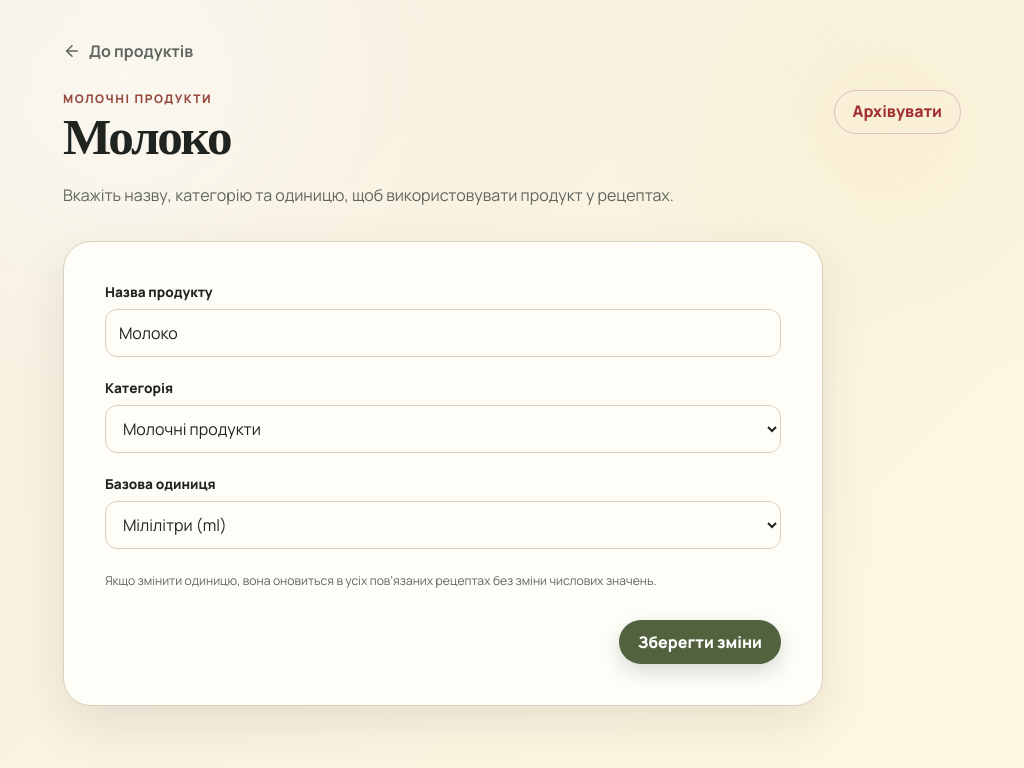
Test case: ProductEditorPage › shows archive impact and restores focus after Escape
The width and height of the screenshot is (1024, 768).
Click the button "Архівувати" at (897, 112), box x1=834 y1=90 x2=961 y2=134
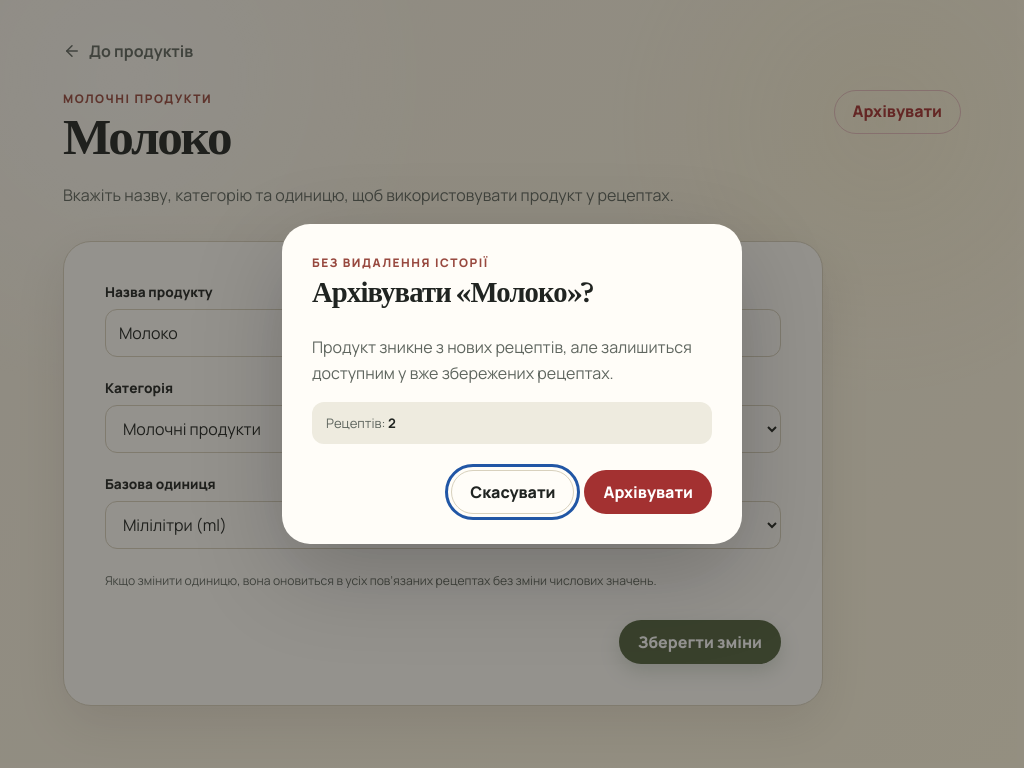
Expected: the dialog shows "Рецептів: 2", x1=282 y1=224 x2=742 y2=544
Press Escape
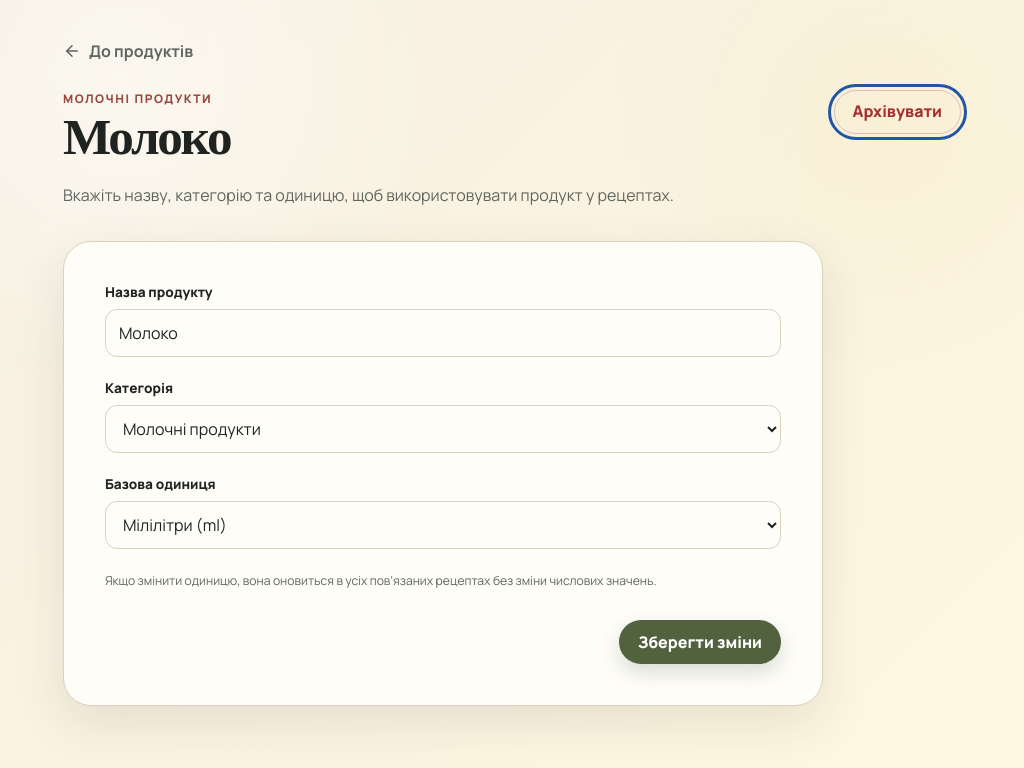
Expected: the dialog is gone
